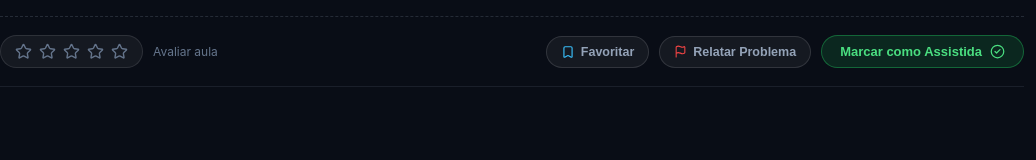
Test: LessonActionToolbar Component › fetches favorite status and toggles lesson favorite
Expected: the text "Favoritar" is shown, [581, 44, 634, 58]
Click the button with test id "toggle-lesson-favorite-btn". click: (598, 52)
box: [546, 36, 649, 68]
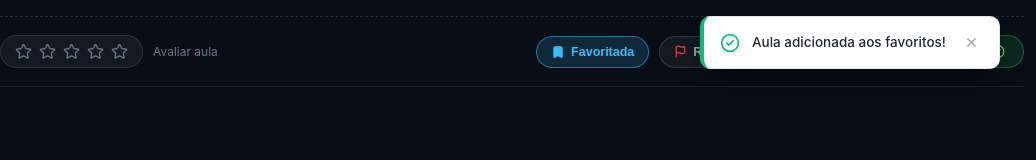
Now the text "Favoritada" is shown, box [571, 44, 634, 58]
